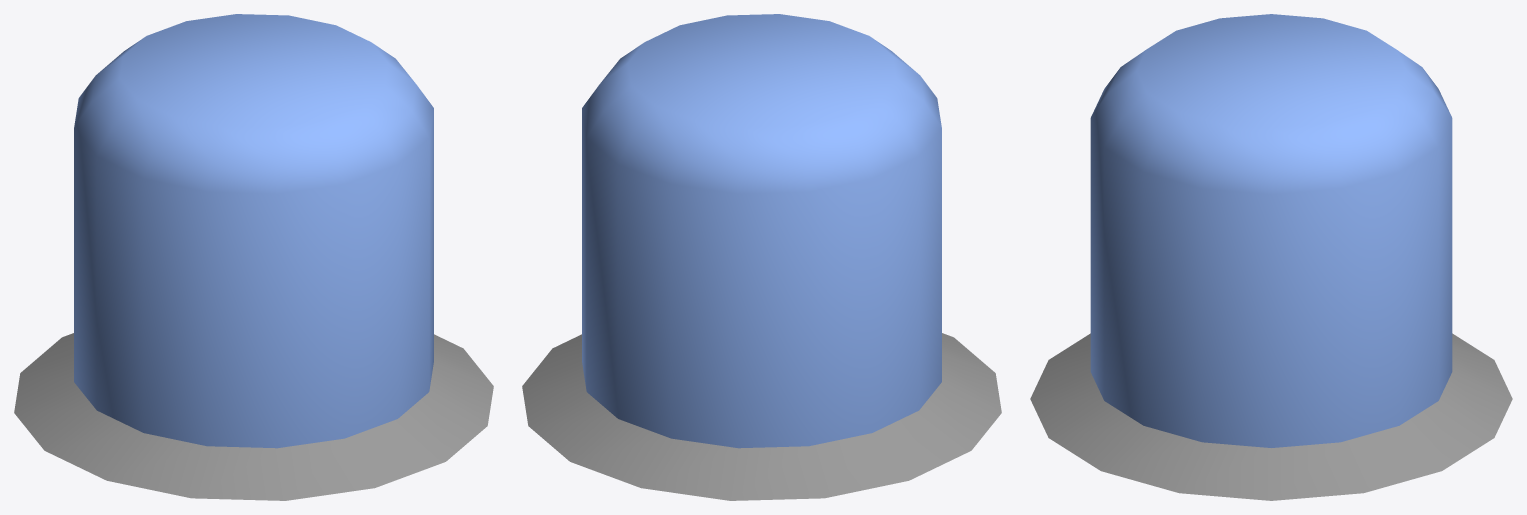
The model's file is Strobe Light.FBX.
3 views of the same model, side by side, from view 1: azimuth 30°, elevation 25°; view 2: azimuth 150°, elevation 25°; view 3: azimuth 270°, elevation 25° (orthographic).
Parts seen in each view (by area): view 1: Cover, Base; view 2: Cover, Base; view 3: Cover, Base.
Boxes of the visible parts, x1,y1,x2,y2 form: Cover: (74,14,433,448); Base: (14,333,493,500); Cover: (582,14,941,448); Base: (522,333,1001,500); Cover: (1090,14,1452,447); Base: (1030,333,1512,500).
Bounding box in the file's own units: 0.032 × 0.024 × 0.032.
